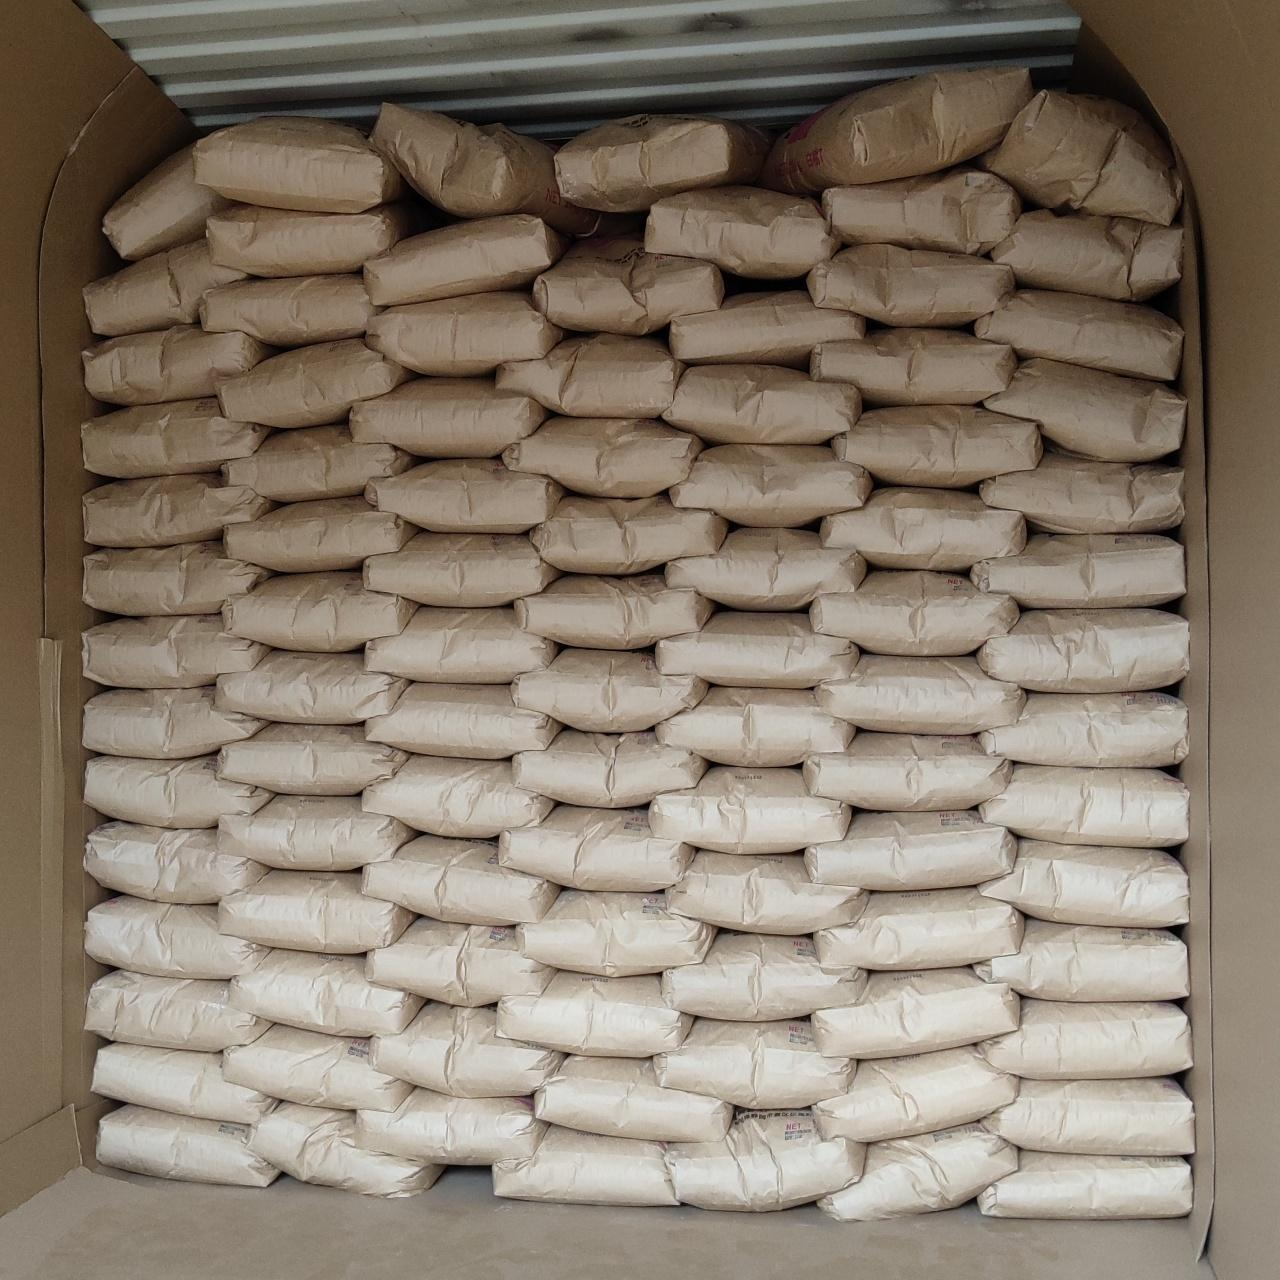sack: (764, 67, 1032, 191), (372, 104, 598, 234), (975, 90, 1182, 225), (983, 359, 1186, 462), (192, 118, 408, 213), (555, 115, 768, 211), (665, 1110, 865, 1210), (812, 1046, 1018, 1141), (817, 1123, 1018, 1220), (975, 288, 1183, 381), (812, 967, 1019, 1058), (364, 214, 568, 306), (980, 441, 1183, 532), (248, 1102, 443, 1196), (370, 1002, 564, 1096), (981, 839, 1187, 927), (534, 240, 724, 335), (662, 934, 867, 1021), (979, 763, 1188, 848), (645, 186, 838, 278), (977, 609, 1188, 693), (976, 918, 1188, 1001), (649, 767, 851, 854), (810, 571, 1019, 655), (216, 339, 413, 428), (822, 166, 1021, 254), (654, 1020, 855, 1107), (990, 209, 1182, 300), (207, 199, 428, 277), (517, 890, 715, 977), (980, 999, 1192, 1080), (362, 836, 559, 923), (805, 244, 1014, 326), (832, 405, 1042, 486), (534, 1055, 733, 1140), (820, 488, 1026, 570), (496, 971, 692, 1057), (815, 888, 1023, 969), (815, 654, 1025, 734), (228, 949, 423, 1035), (804, 811, 1016, 890), (665, 850, 864, 934), (498, 805, 694, 890), (217, 870, 414, 954), (511, 648, 708, 732), (665, 528, 866, 610), (669, 444, 872, 525), (803, 731, 1011, 810), (368, 918, 554, 1006), (366, 292, 563, 375), (982, 1078, 1194, 1155), (501, 417, 704, 497), (661, 364, 862, 443), (222, 1025, 411, 1109), (971, 534, 1185, 608), (362, 755, 555, 837), (811, 328, 1016, 405), (349, 377, 546, 457), (657, 687, 854, 767), (85, 238, 245, 336), (497, 334, 685, 417), (223, 572, 418, 652), (980, 692, 1188, 767), (655, 611, 858, 687), (83, 325, 275, 405), (86, 970, 273, 1052), (82, 397, 270, 478), (365, 682, 562, 759), (668, 290, 865, 367), (513, 729, 707, 807), (220, 425, 416, 502), (530, 497, 728, 573), (86, 895, 265, 979), (515, 574, 715, 649), (492, 1125, 679, 1205), (217, 795, 416, 870), (97, 1106, 280, 1187), (365, 606, 557, 683), (354, 1087, 546, 1164), (364, 531, 561, 606), (84, 822, 267, 902), (102, 147, 231, 260), (223, 497, 417, 572), (365, 459, 564, 532), (92, 1043, 273, 1123), (978, 1151, 1192, 1217), (215, 651, 410, 723), (84, 541, 273, 615), (82, 474, 274, 546), (218, 724, 410, 795), (84, 755, 273, 827), (83, 615, 269, 687), (82, 687, 268, 759), (199, 273, 376, 348)
